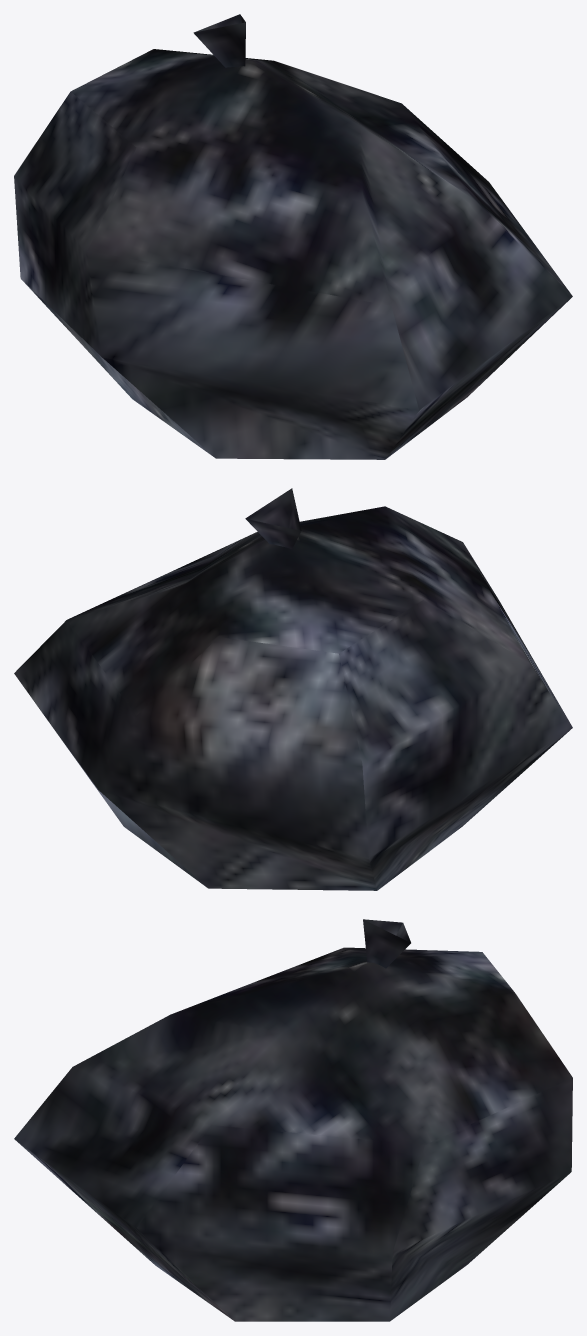
File: garb_02.glb
3 renders of one model, top to bottom at view 1: azimuth 30°, elevation 25°; view 2: azimuth 150°, elevation 25°; view 3: azimuth 270°, elevation 25°, orthographic. The views are drawn at different scales.
Parts seen in each view (by area): view 1: Garbage_bag_01.-col; view 2: Garbage_bag_01.-col; view 3: Garbage_bag_01.-col.
Boxes of the visible parts, left/top/right/bottom form: Garbage_bag_01.-col: left=14, top=14, right=572, bottom=459; Garbage_bag_01.-col: left=14, top=488, right=572, bottom=890; Garbage_bag_01.-col: left=14, top=919, right=572, bottom=1321.
Size of the model in its own units: 0.9398 by 0.6948 by 1.05.
Materials: 1 (1 with a texture image).
